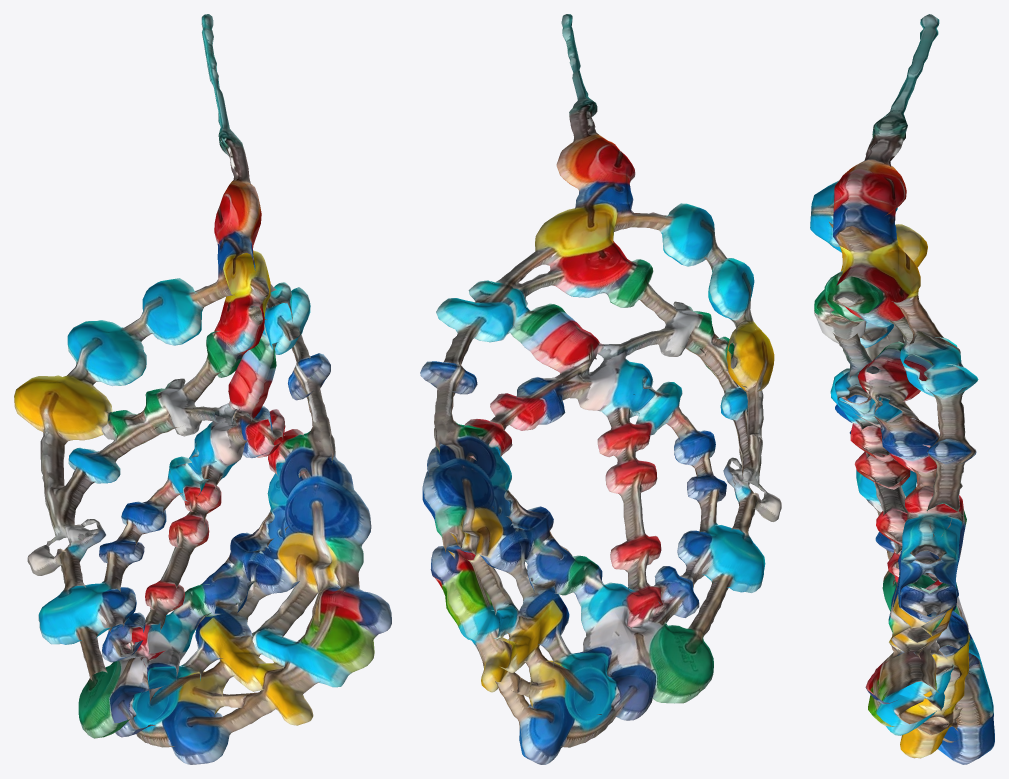
The model's file is hy3d-mov-027.glb.
3 views of the same model, side by side, from view 1: azimuth 30°, elevation 25°; view 2: azimuth 150°, elevation 25°; view 3: azimuth 270°, elevation 25° (orthographic). The views are drawn at different scales.
Visible parts, largest first — view 1: world; view 2: world; view 3: world.
Boxes of the visible parts, left/top/right/bottom form: world: left=14, top=14, right=391, bottom=764; world: left=420, top=14, right=781, bottom=764; world: left=810, top=14, right=994, bottom=764.
Bounding box in the file's own units: 1.24 × 2.51 × 0.5667.
1 material, 1 textured.
